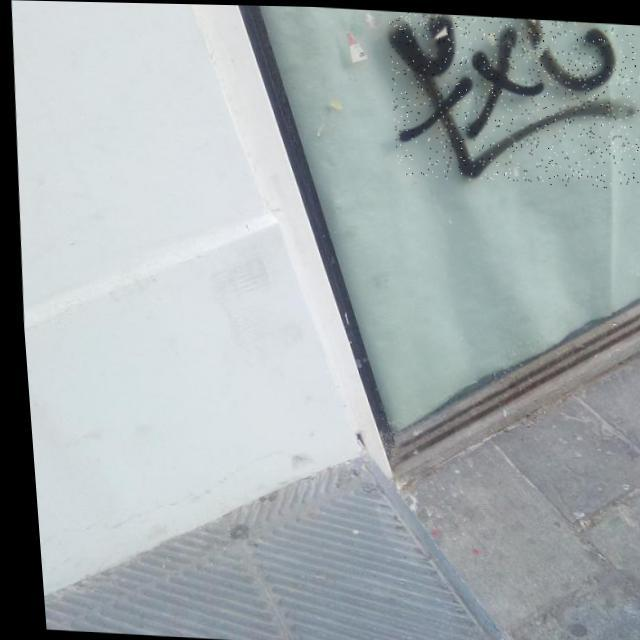-: (382, 10, 640, 186)
